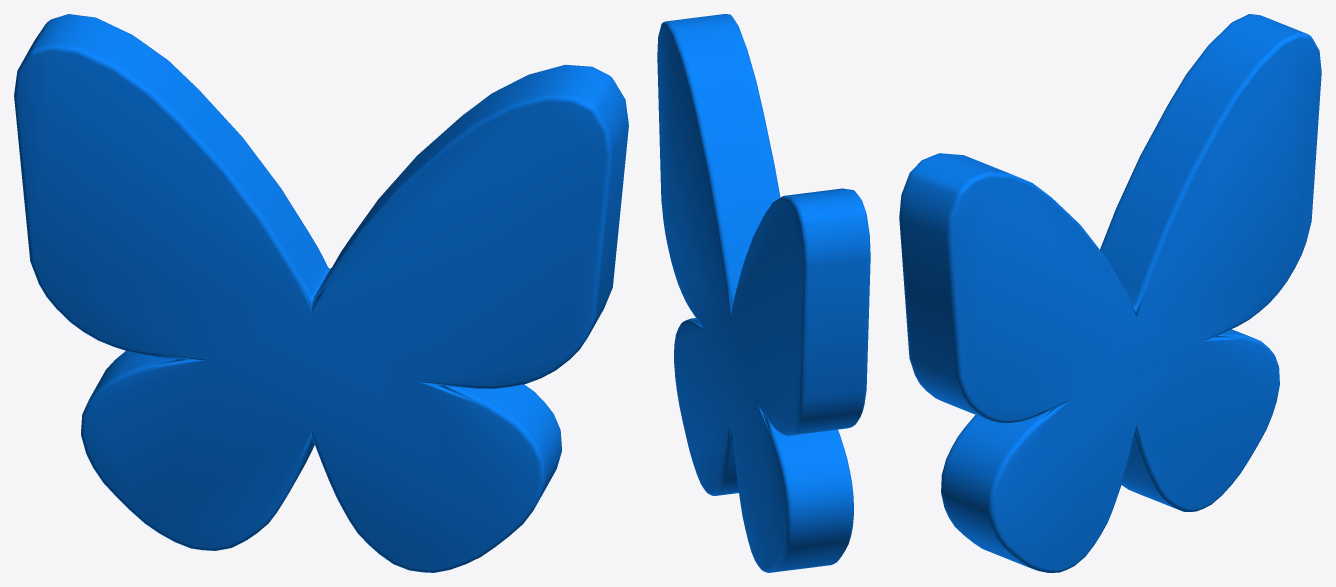
Rendered from bluSkyIcon.glb.
3 renders of one model, left to right at view 1: azimuth 30°, elevation 25°; view 2: azimuth 150°, elevation 25°; view 3: azimuth 270°, elevation 25°, orthographic. The views are drawn at different scales.
Parts seen in each view (by area): view 1: Cube.270; view 2: Cube.270; view 3: Cube.270.
Boxes of the visible parts, left/top/right/bottom form: Cube.270: left=14, top=14, right=628, bottom=572; Cube.270: left=657, top=14, right=870, bottom=572; Cube.270: left=899, top=14, right=1321, bottom=572.
Bounding box in the file's own units: 1.05 × 1.14 × 1.01.
